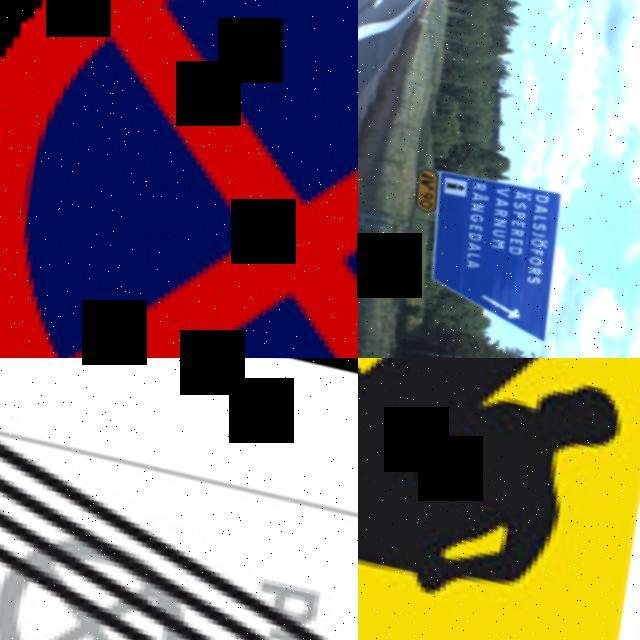113: (358, 358, 640, 640)
115: (0, 421, 358, 640)
125: (404, 162, 442, 215)
3: (408, 161, 568, 344)
No stopping: (0, 0, 358, 358)
